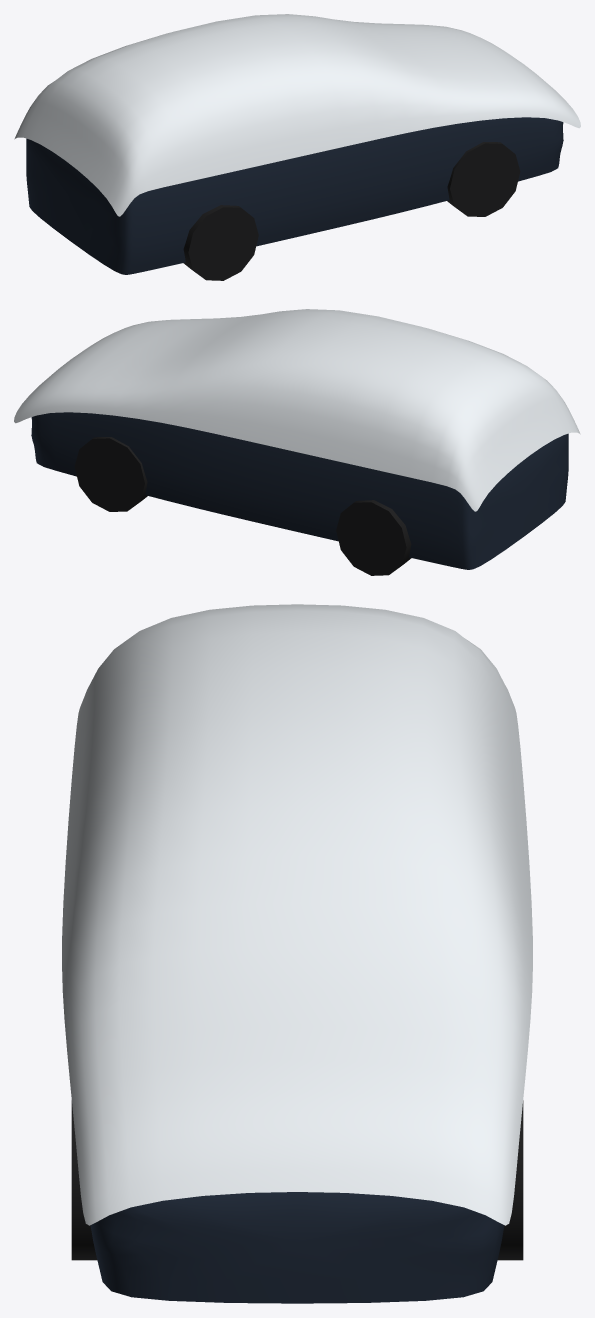
Rendered from SM_car1_D.glb.
3 renders of one model, top to bottom at view 1: azimuth 30°, elevation 25°; view 2: azimuth 150°, elevation 25°; view 3: azimuth 270°, elevation 25°, orthographic. The views are drawn at different scales.
Parts seen in each view (by area): view 1: SM_car1_D_snow, SM_car1_D_body, SM_car1_D_wheels; view 2: SM_car1_D_snow, SM_car1_D_body, SM_car1_D_wheels; view 3: SM_car1_D_snow, SM_car1_D_body, SM_car1_D_wheels.
Boxes of the visible parts, left/top/right/bottom form: SM_car1_D_snow: left=14, top=14, right=580, bottom=216; SM_car1_D_body: left=26, top=117, right=563, bottom=274; SM_car1_D_wheels: left=183, top=142, right=520, bottom=280; SM_car1_D_snow: left=14, top=309, right=580, bottom=511; SM_car1_D_body: left=31, top=412, right=568, bottom=569; SM_car1_D_wheels: left=74, top=437, right=411, bottom=575; SM_car1_D_snow: left=62, top=604, right=532, bottom=1225; SM_car1_D_body: left=90, top=1192, right=504, bottom=1303; SM_car1_D_wheels: left=71, top=1100, right=523, bottom=1260.
Size of the model in its own units: 4.1 by 1.54 by 1.79.
